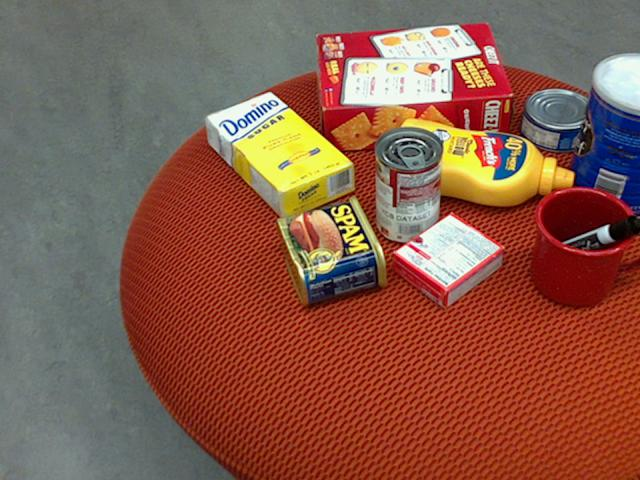cracker_box: (316, 22, 512, 151)
gelatin_box: (390, 214, 505, 310)
large_marker: (535, 213, 639, 267)
master_chef_can: (564, 53, 639, 220)
mug: (530, 185, 639, 307)
mustard_bottle: (387, 118, 573, 206)
potted_meat_can: (275, 194, 387, 305)
sugar_box: (204, 90, 354, 221)
tomato_soup_can: (373, 124, 443, 243)
tuna_fish_can: (518, 87, 595, 151)
